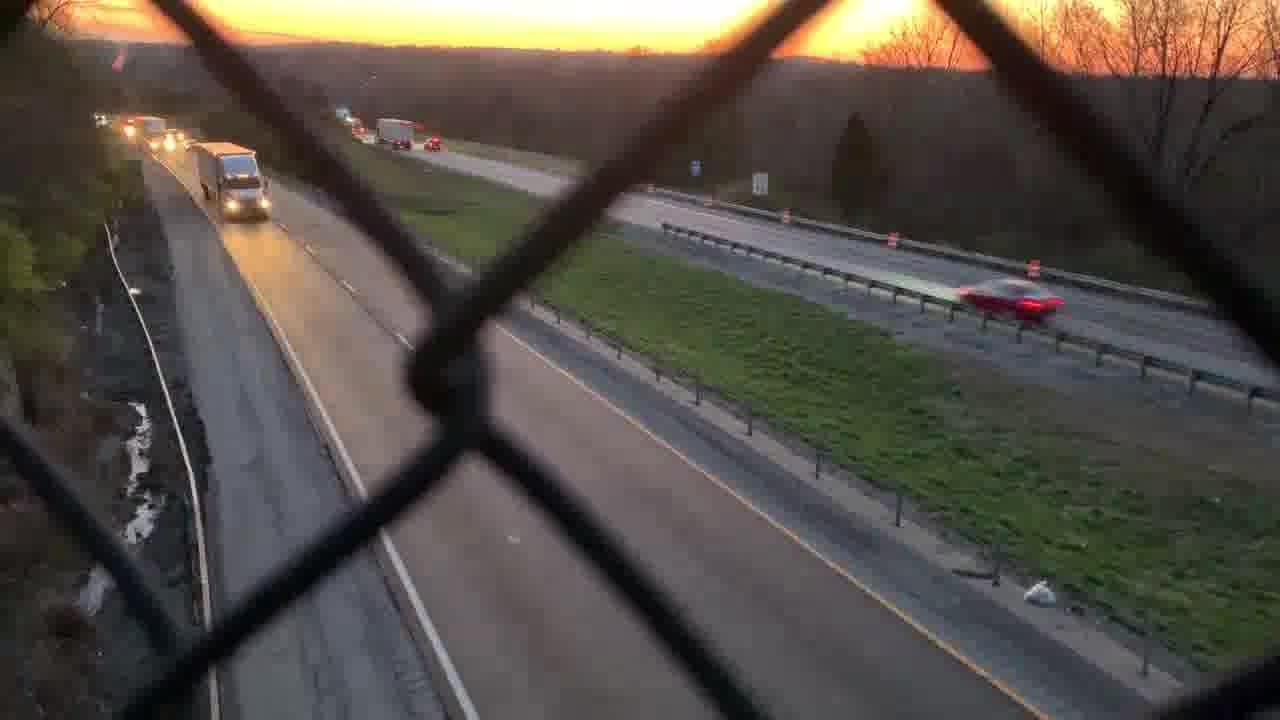heavyTruck: (189, 137, 274, 227), (374, 117, 414, 153)
smallCar: (954, 272, 1066, 327)
